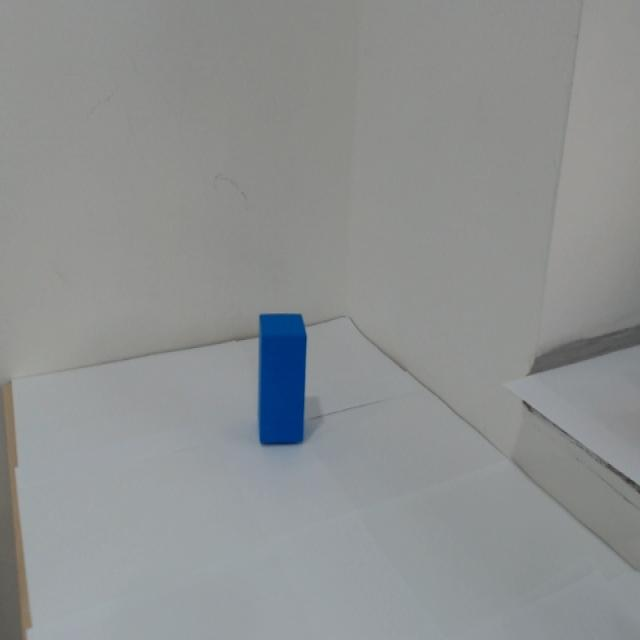cube: (241, 297, 325, 494)
